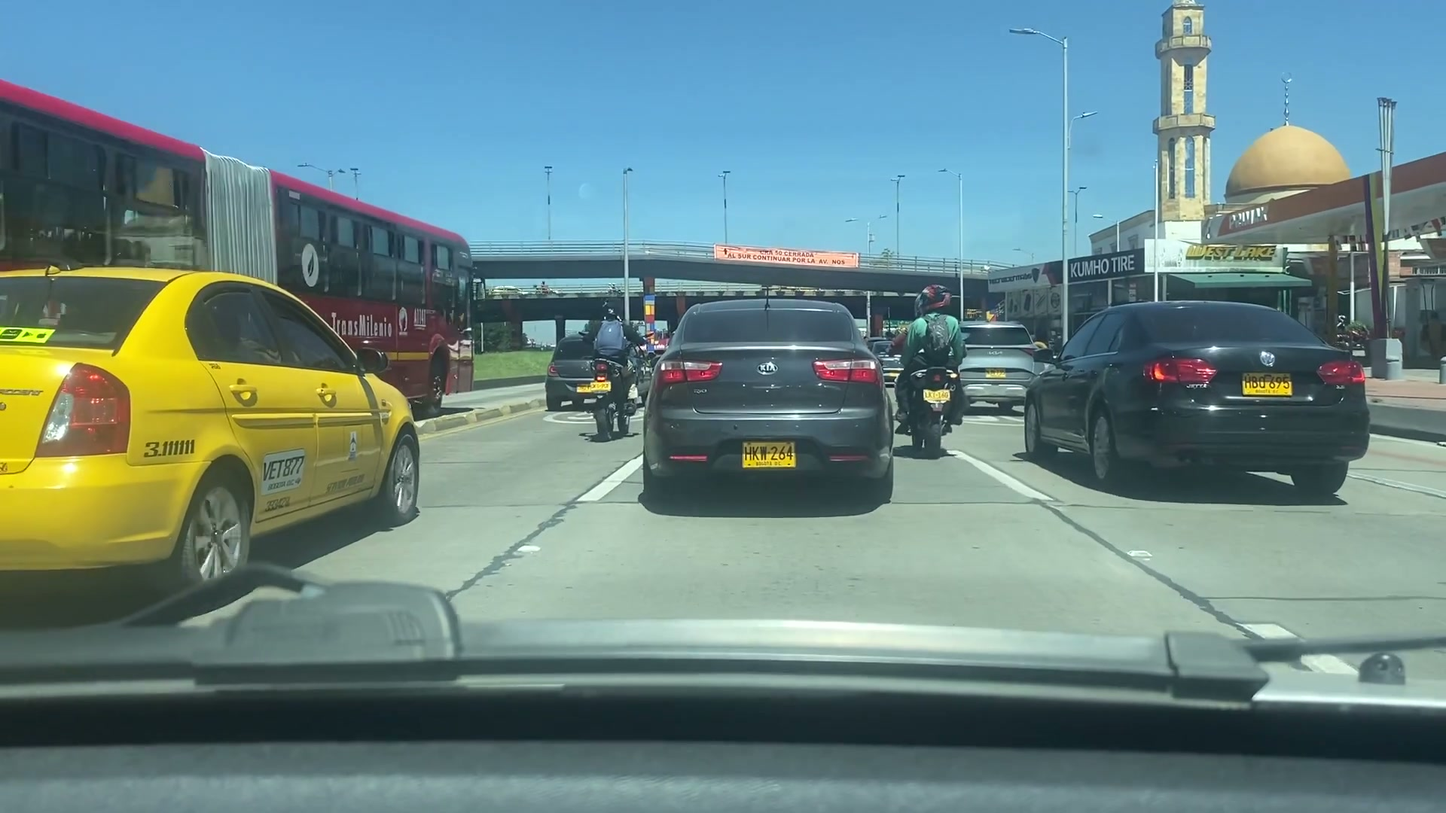car: (0, 265, 420, 584), (1023, 302, 1370, 495), (644, 298, 889, 503), (545, 329, 652, 409), (948, 320, 1048, 405)
motorcycle: (895, 357, 966, 460), (582, 358, 637, 434)
person: (895, 286, 967, 427), (587, 298, 640, 413)
